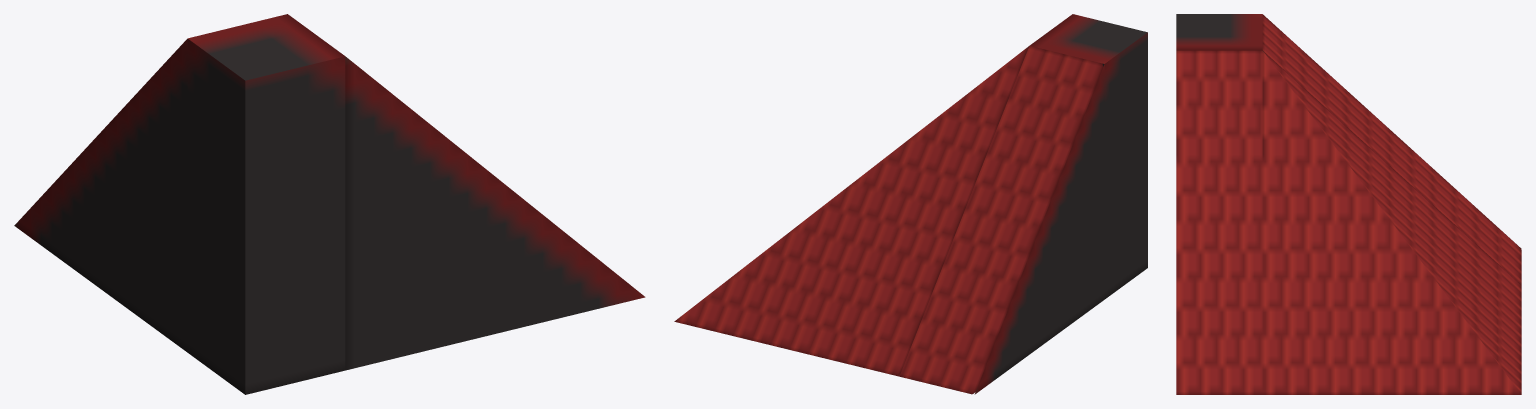
File: Roof_Corner_1.fbx
3 views of the same model, side by side, from view 1: azimuth 30°, elevation 25°; view 2: azimuth 150°, elevation 25°; view 3: azimuth 270°, elevation 25° (orthographic). The views are drawn at different scales.
Visible parts, largest first — view 1: Roof_Corner_1; view 2: Roof_Corner_1; view 3: Roof_Corner_1.
Boxes of the visible parts, <box> form: Roof_Corner_1: <box>14,14,645,394</box>; Roof_Corner_1: <box>674,14,1147,394</box>; Roof_Corner_1: <box>1176,14,1521,394</box>.
Size of the model in its own units: 400 by 300 by 400.
Materials: 1 (1 with a texture image).
